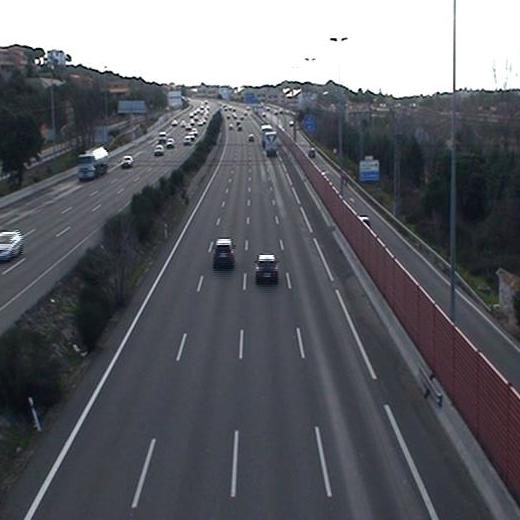car: (254, 255, 279, 284), (213, 237, 236, 267)
truck: (265, 132, 279, 158)
